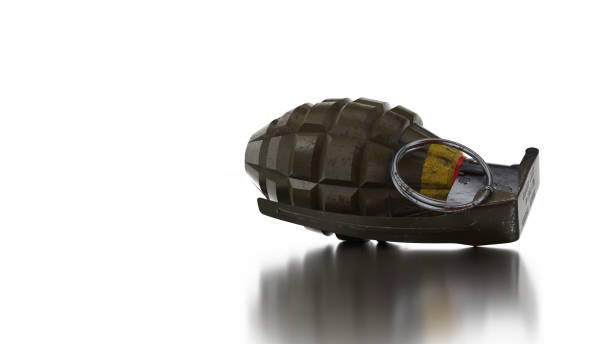e1: (245, 99, 545, 249)
